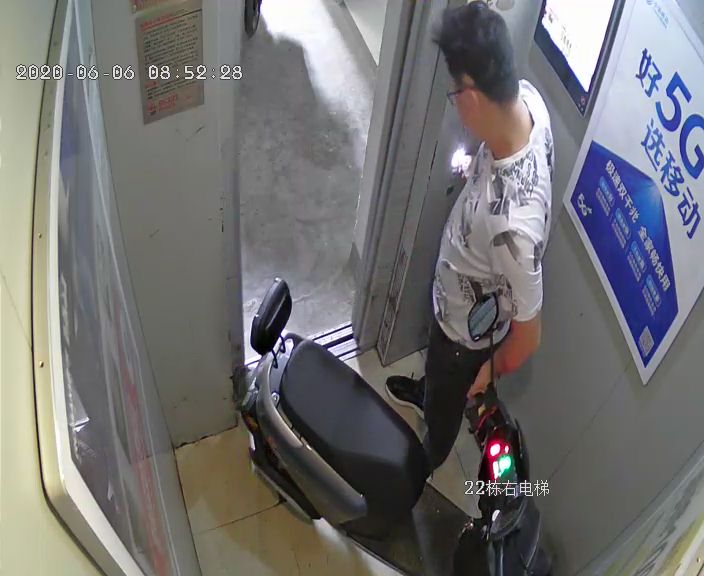Electric-bicycle: (243, 278, 563, 576)
